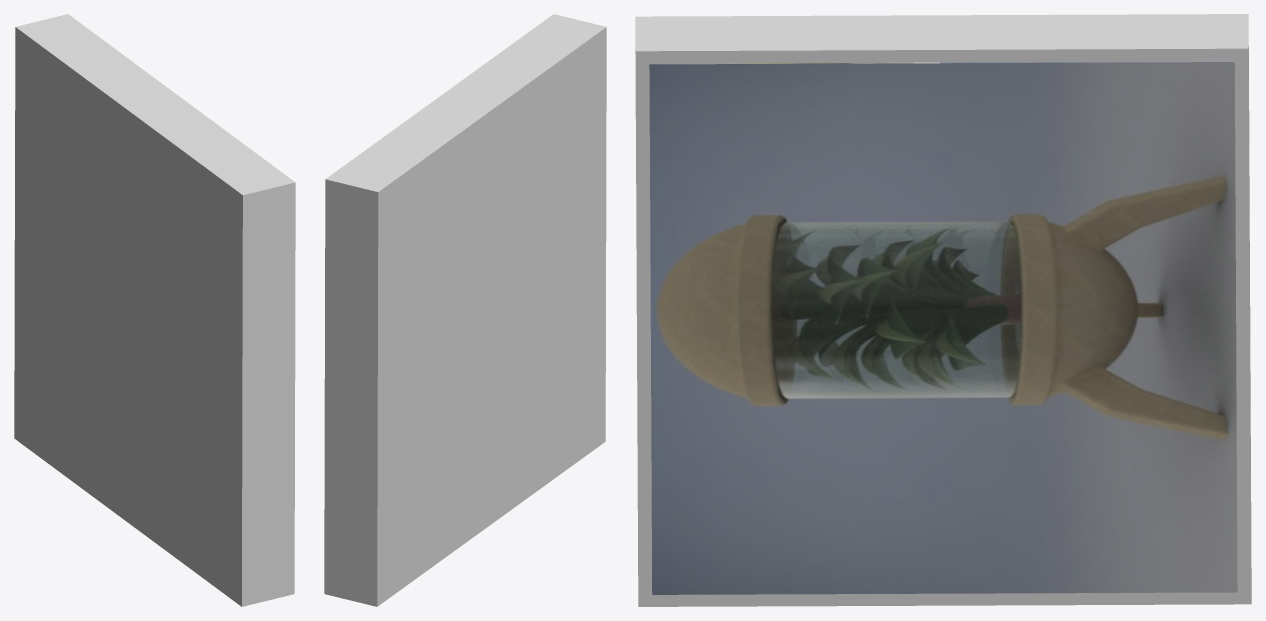
File: profPic.glb
The picture shows the model from 3 angles, left to right: view 1: azimuth 30°, elevation 25°; view 2: azimuth 150°, elevation 25°; view 3: azimuth 270°, elevation 25°; orthographic projection. The views are drawn at different scales.
Visible parts, largest first — view 1: profPic; view 2: profPic; view 3: Cube, profPic.
Part boxes in pixels (bbox=[...]): profPic: bbox=[14, 14, 295, 606]; profPic: bbox=[324, 14, 606, 606]; Cube: bbox=[649, 61, 1237, 594]; profPic: bbox=[635, 14, 1251, 606].
Size of the model in its own units: 1.05 by 7.75 by 7.75.
1 material, 1 textured.
